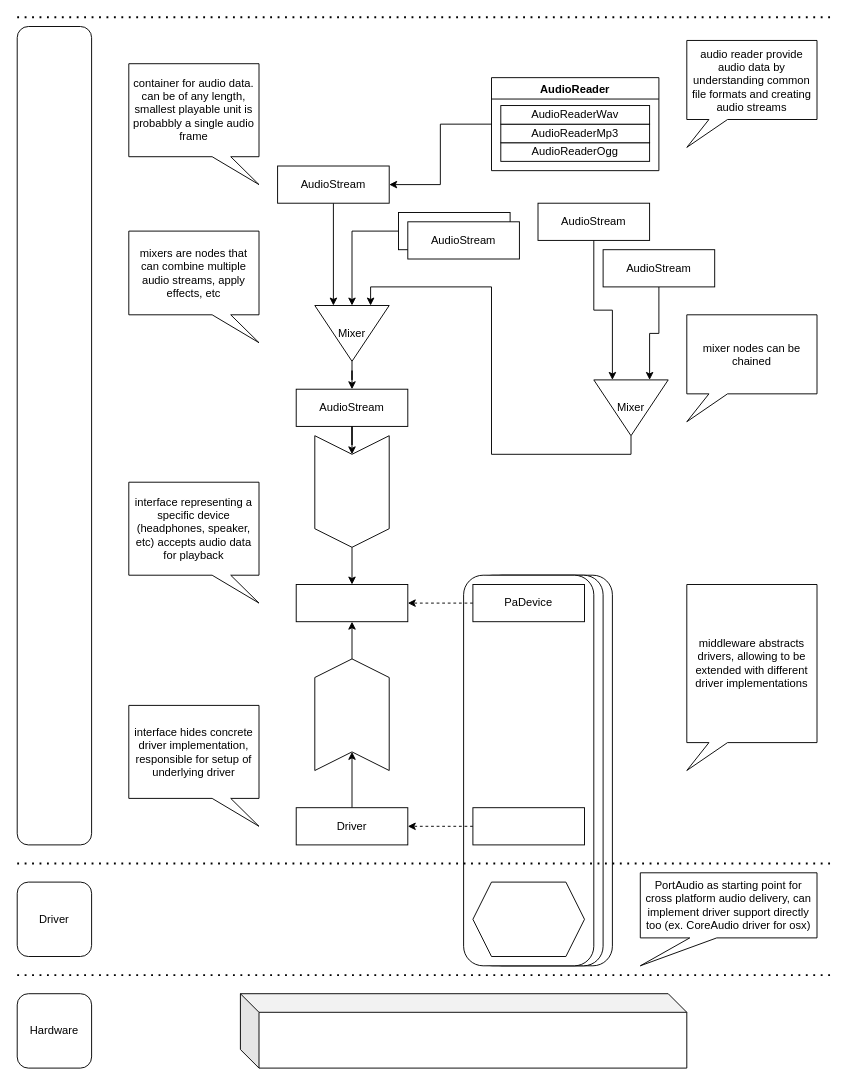
The diagram is 853 pixels wide and 1084 high, and some of its shapes have lost their labels. The shapes that lost their labels are listed below. From the top down, each one's box as (x1, y1, x2, y2) in pixels, then its label:
(16, 26, 92, 845): Lowl Audio
(314, 435, 389, 547): provide audio to device for playback
(295, 584, 408, 622): Device
(314, 658, 389, 771): driver provides list of devices
(472, 807, 585, 845): PaDriver
(472, 881, 585, 957): PortAudio
(239, 993, 687, 1068): Soundcard
